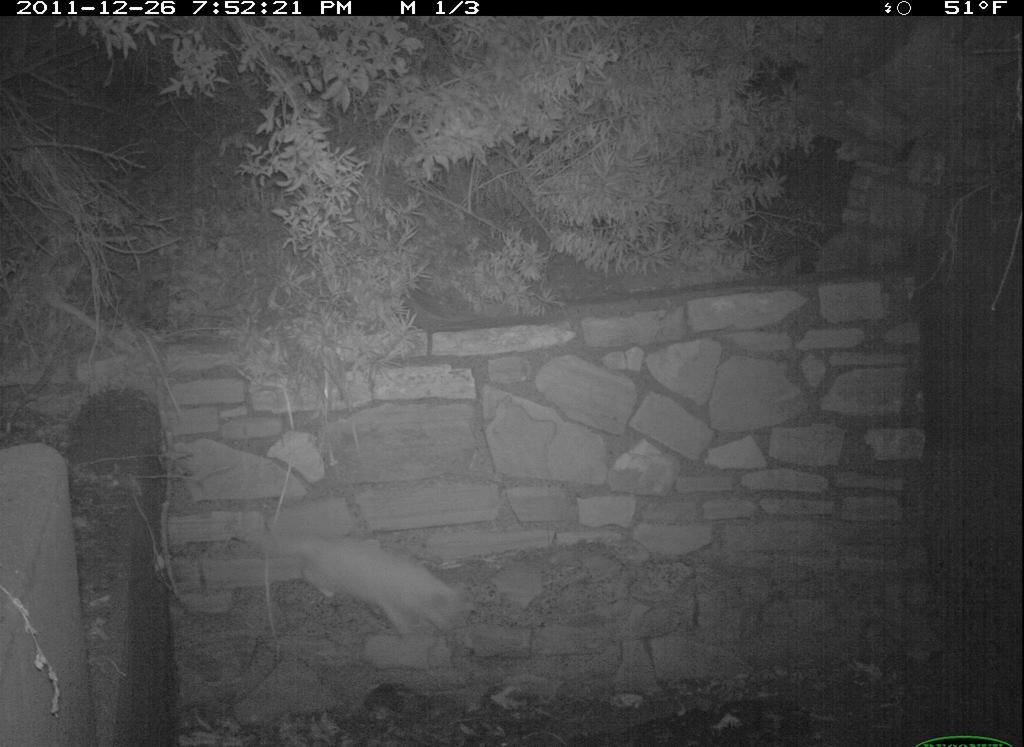cat: (239, 509, 489, 660)
